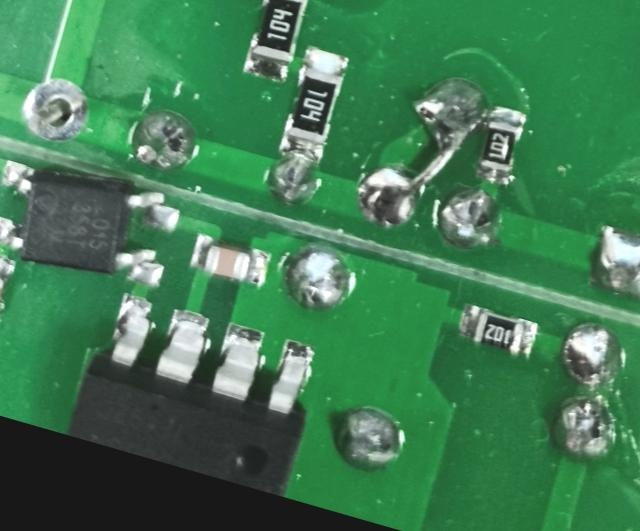chip-capacitor: (187, 227, 277, 289)
chip-resistor: (275, 42, 351, 163), (239, 0, 317, 85), (453, 298, 543, 360), (472, 100, 532, 186)
ic: (56, 276, 335, 498), (0, 143, 188, 294)
